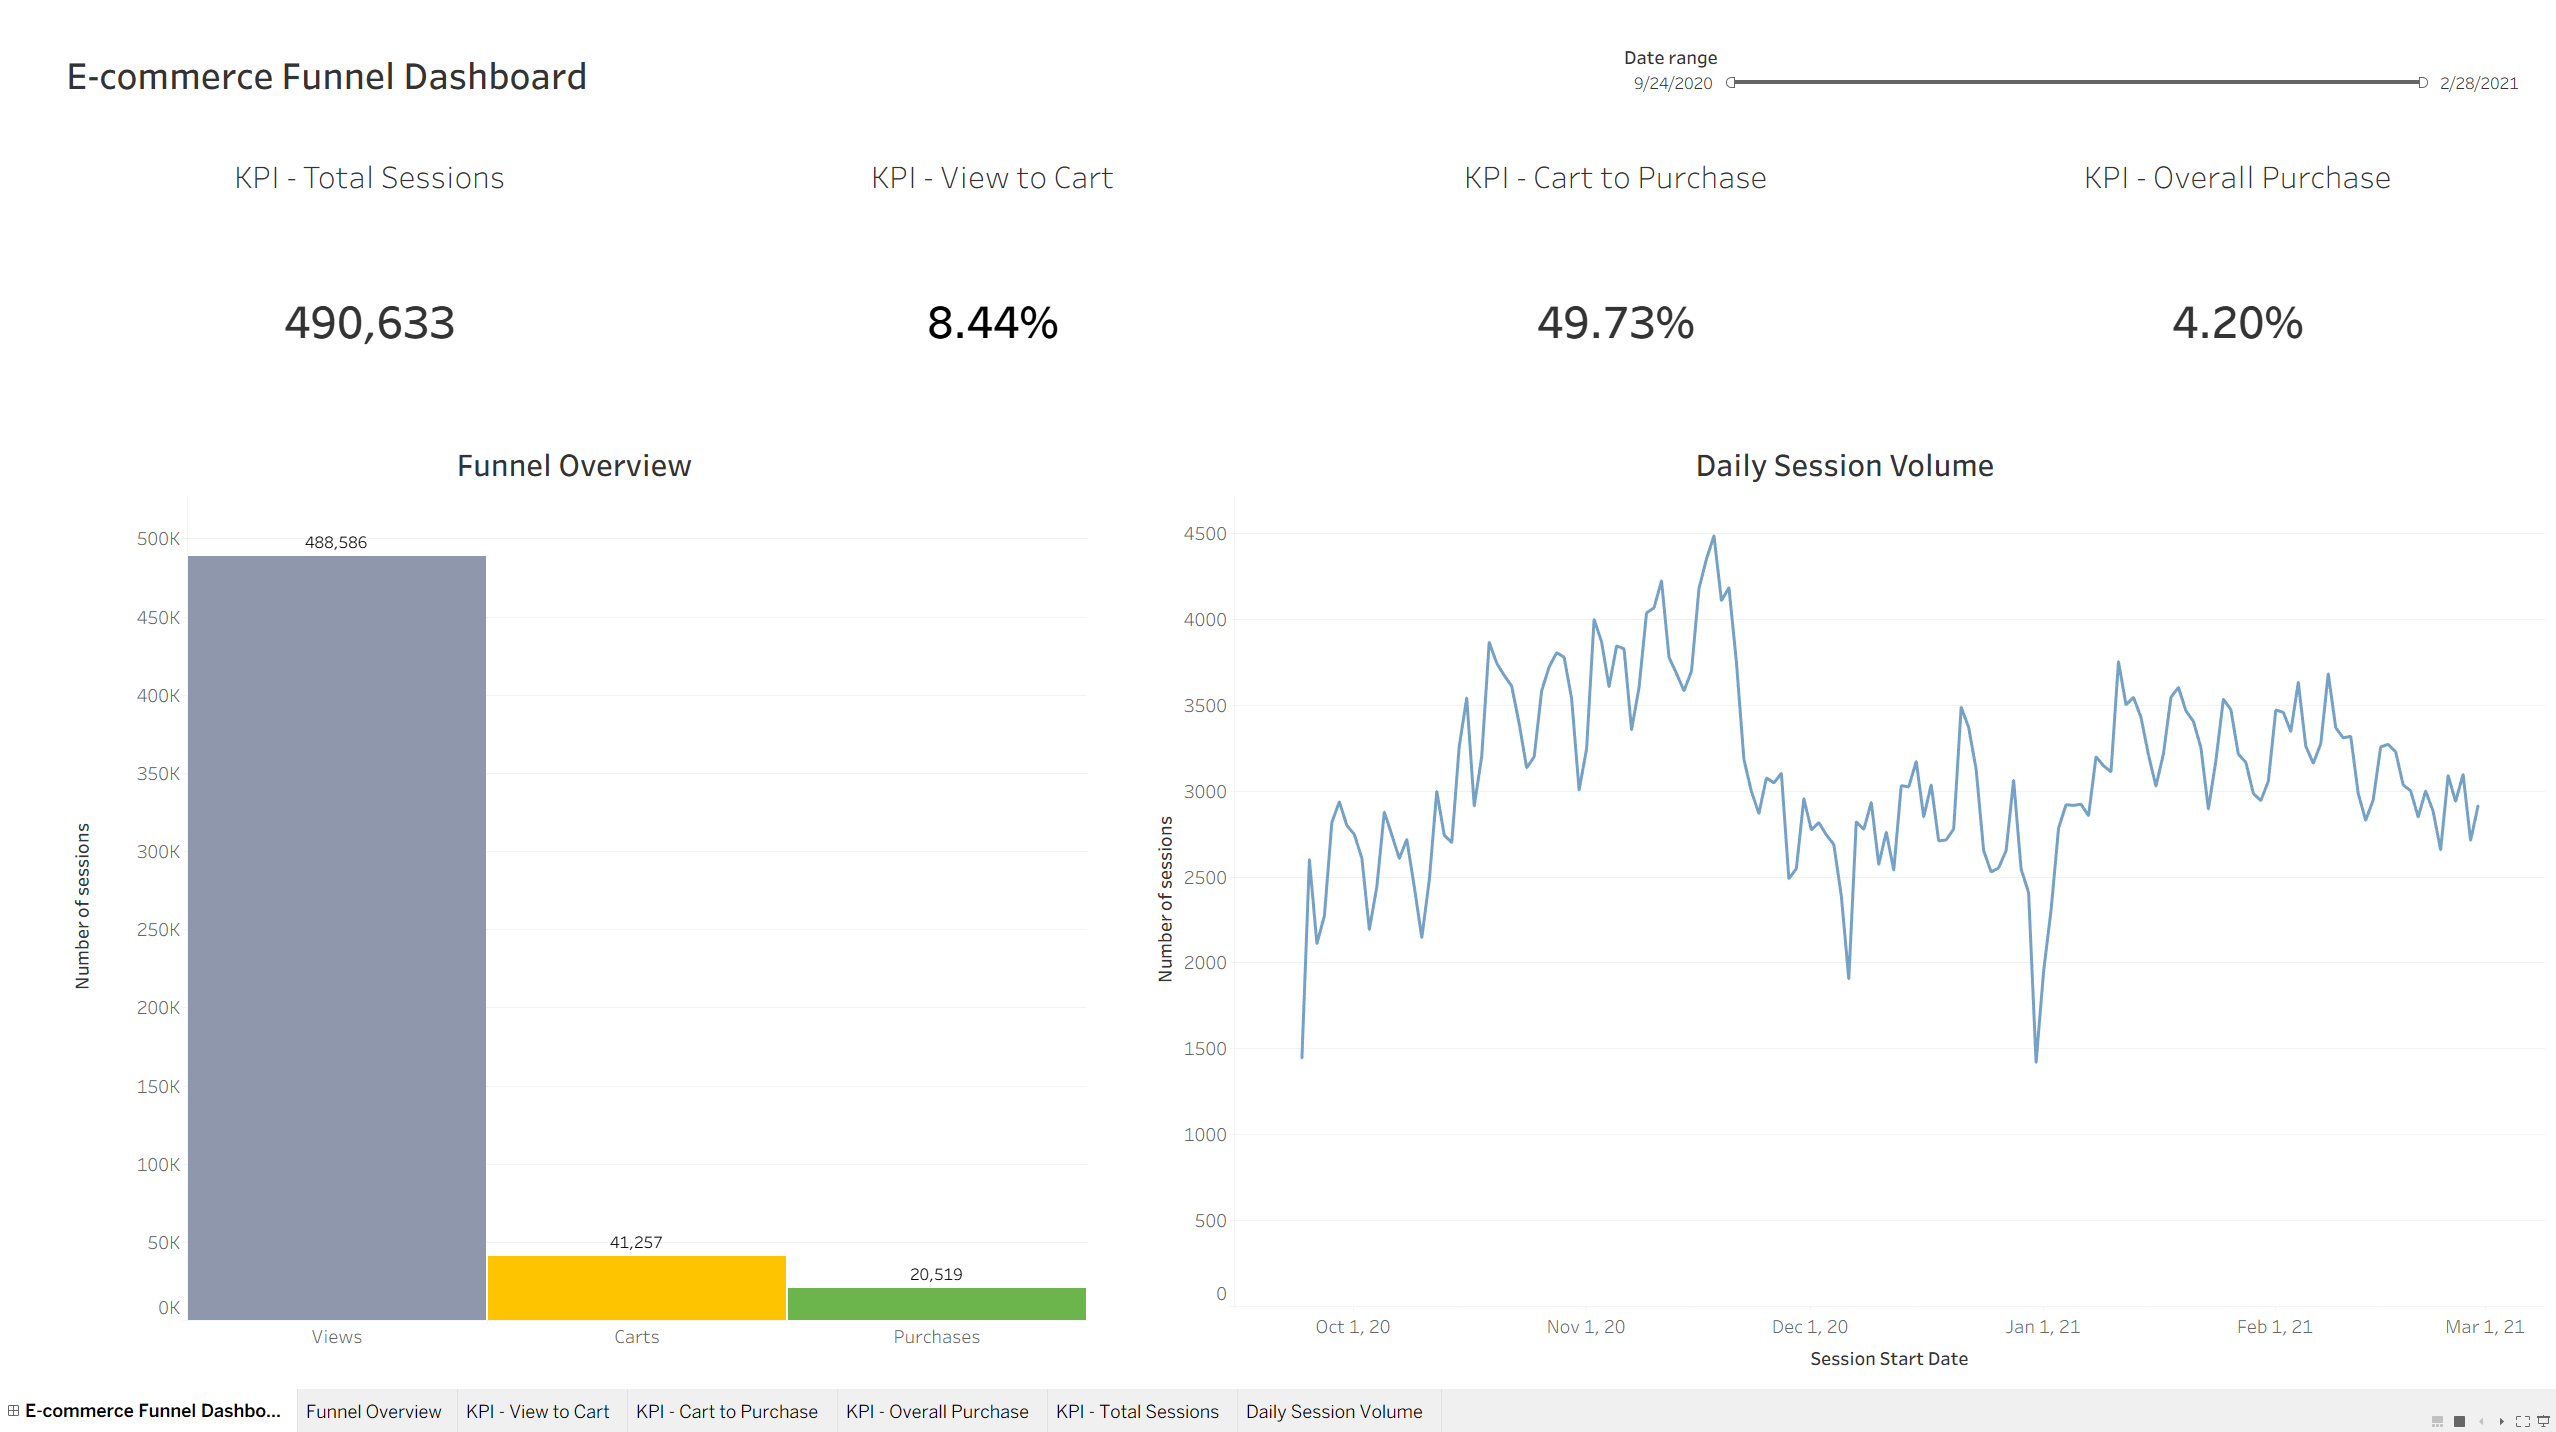

The dashboard page shown, as its layout file describes it:
{"tool":"tableau","page":{"name":"E-commerce Funnel Dashboard","canvas":[1000,1000],"units":"permille","ordinal":0},"visuals":[{"type":"title","box":[24.4,6.9,972.1,124.4]},{"type":"filter","title":"Daily Session Volume","param":"[federated.0icaa920ryhqg61f8toa112w00h3].[none:session_start_date:qk]","box":[635.4,36,353.9,66]},{"type":"worksheet","title":"KPI - Total Sessions","mark":"Automatic","box":[24.4,131.2,243,201.5]},{"type":"worksheet","title":"KPI - View to Cart","mark":"Automatic","box":[267.4,131.2,243,201.5]},{"type":"worksheet","title":"KPI - Cart to Purchase","mark":"Automatic","box":[510.4,131.2,243,201.5]},{"type":"worksheet","title":"KPI - Overall Purchase","mark":"Automatic","box":[753.4,131.2,243,201.5]},{"type":"worksheet","title":"Funnel Overview","mark":"Bar","box":[24.4,332.7,403.2,660.4]},{"type":"worksheet","title":"Daily Session Volume","mark":"Line","rows":["user_session"],"cols":["session_start_date"],"box":[447.2,332.7,549.3,660.4]}]}

Visuals, with their boxes on the dashboard's canvas, which has no fixed pixel size, in thousandths of its width and height (x1, y1, x2, y2). These are canvas units, not pixel positions in the 2556x1432 screenshot, which may show the page scaled, cropped or inside an application window:
title: box=[24, 7, 996, 131]
"Daily Session Volume" filter: box=[635, 36, 989, 102]
"KPI - Total Sessions" worksheet: box=[24, 131, 267, 333]
"KPI - View to Cart" worksheet: box=[267, 131, 510, 333]
"KPI - Cart to Purchase" worksheet: box=[510, 131, 753, 333]
"KPI - Overall Purchase" worksheet: box=[753, 131, 996, 333]
"Funnel Overview" worksheet (Bar marks): box=[24, 333, 428, 993]
"Daily Session Volume" worksheet (Line marks): box=[447, 333, 996, 993]
